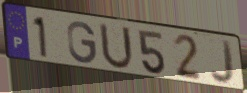1: (31, 15, 50, 60)
2: (172, 33, 203, 82)
5: (136, 28, 167, 76)
G: (65, 20, 98, 65)
J: (209, 38, 236, 87)
U: (97, 21, 136, 72)
